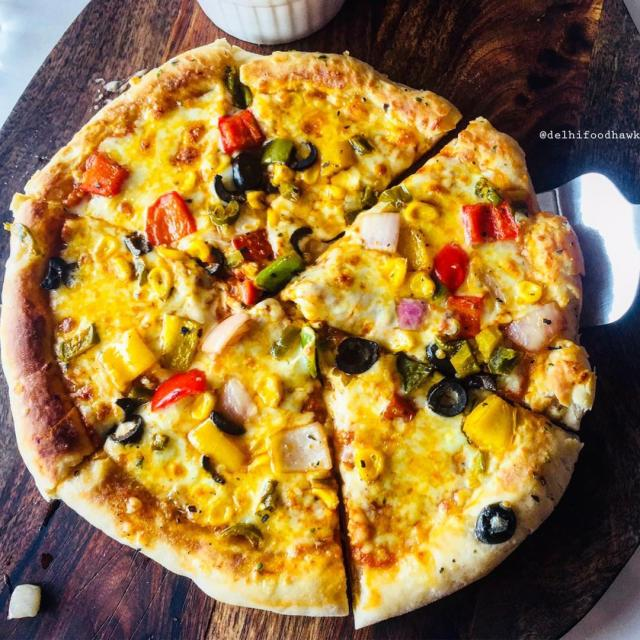black_olives: (473, 500, 521, 545), (333, 335, 383, 376), (424, 377, 472, 417), (232, 154, 266, 192), (110, 414, 148, 444), (211, 173, 247, 204), (286, 140, 318, 173), (39, 257, 70, 290), (425, 342, 454, 374), (210, 411, 247, 436), (464, 370, 495, 390), (123, 233, 152, 254), (61, 262, 80, 289), (115, 396, 146, 410)
pizza: (0, 41, 596, 632)
